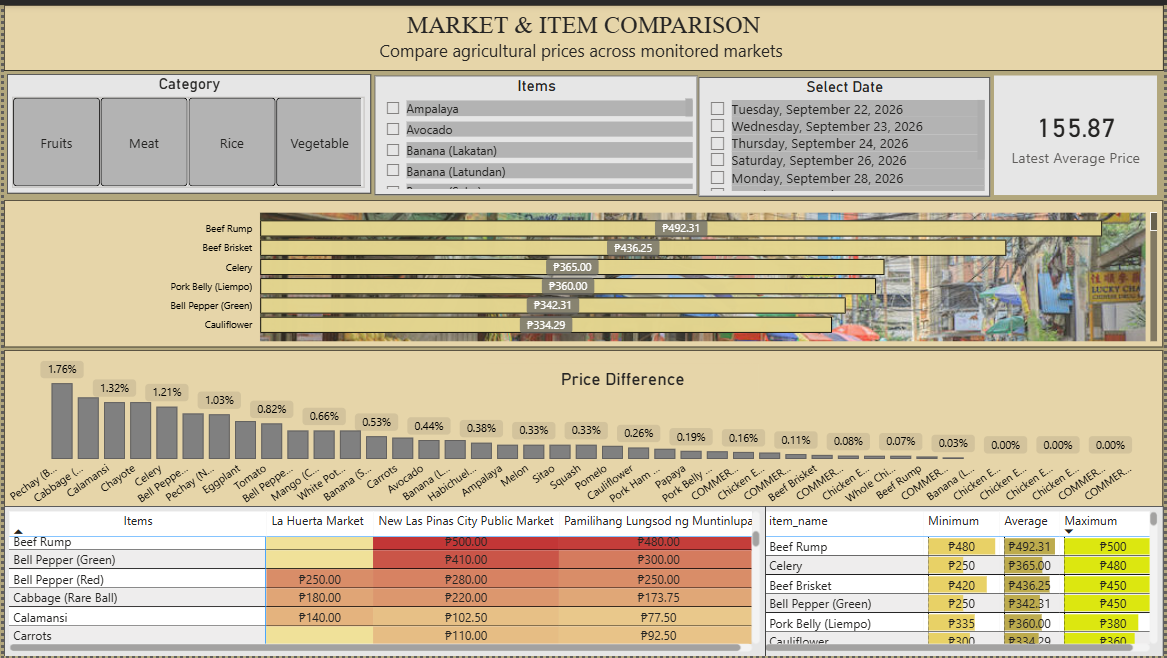

Layout of this report page (visuals, bound fields, positions):
{"tool":"powerbi","page":{"name":"Market & Item Comparison","canvas":[1280,720],"ordinal":1},"visuals":[{"type":"barChart","title":"Item Price by Market","fields":{"Category":["agriproject_db vw_price_analysis.item_name"],"Y":["agriproject_db vw_price_analysis.Average Price"]},"box":[0,215.3,1280,162.3],"z":1000},{"type":"card","fields":{"Values":["agriproject_db vw_price_analysis.Latest Average Price"]},"box":[1093.3,78.3,180,131.7],"z":2000},{"type":"textbox","box":[0,0,1280.5,72.9],"z":3000},{"type":"slicer","title":"Items","fields":{"Values":["agriproject_db vw_price_analysis.item_name"]},"box":[408.3,78.3,356.7,131.7],"z":4000},{"type":"clusteredColumnChart","title":"Price Difference","fields":{"Category":["agriproject_db vw_price_analysis.item_name"],"Y":["Divide(agriproject_db vw_price_analysis.Price diff %, ScopedEval(agriproject_db vw_price_analysis.Price diff %, []))"]},"box":[0,381.7,1280,183.3],"z":4500},{"type":"advancedSlicerVisual","title":"Category","fields":{"Values":["agriproject_db vw_price_analysis.category_name"]},"box":[3.3,76.7,401.7,131.7],"z":5000},{"type":"slicer","title":"Select Date","fields":{"Values":["agriproject_db vw_price_analysis.price_date"]},"box":[766.7,80,321.7,131.7],"z":6000},{"type":"tableEx","fields":{"Values":["agriproject_db vw_price_analysis.item_name","agriproject_db vw_price_analysis.Min price","agriproject_db vw_price_analysis.Average Price","agriproject_db vw_price_analysis.Max price"]},"box":[833,554,447,167],"z":7000},{"type":"textbox","box":[533.4,395.9,299.8,34.8],"z":8001},{"type":"pivotTable","fields":{"Rows":["agriproject_db vw_price_analysis.item_name"],"Columns":["agriproject_db vw_price_analysis.market_name"],"Values":["agriproject_db vw_price_analysis.Average Price"]},"box":[0,554,841,167],"z":8501}]}

Visuals, with their boxes in screenshot pixels (x1, y1, x2, y2), scaled from the page's 1280x720 canvas onto the 1167x658 screenshot:
"Item Price by Market" barChart: rect(0, 197, 1166, 345)
card - agriproject_db vw_price_analysis.Latest Average Price: rect(997, 72, 1161, 192)
textbox: rect(0, 0, 1166, 67)
"Items" slicer: rect(372, 72, 697, 192)
"Price Difference" clusteredColumnChart: rect(0, 349, 1166, 516)
"Category" advancedSlicerVisual: rect(3, 70, 369, 190)
"Select Date" slicer: rect(699, 73, 992, 193)
tableEx - agriproject_db vw_price_analysis.item_name x agriproject_db vw_price_analysis.Min price: rect(759, 506, 1166, 657)
textbox: rect(486, 362, 760, 394)
pivotTable - agriproject_db vw_price_analysis.item_name x agriproject_db vw_price_analysis.market_name: rect(0, 506, 767, 657)
